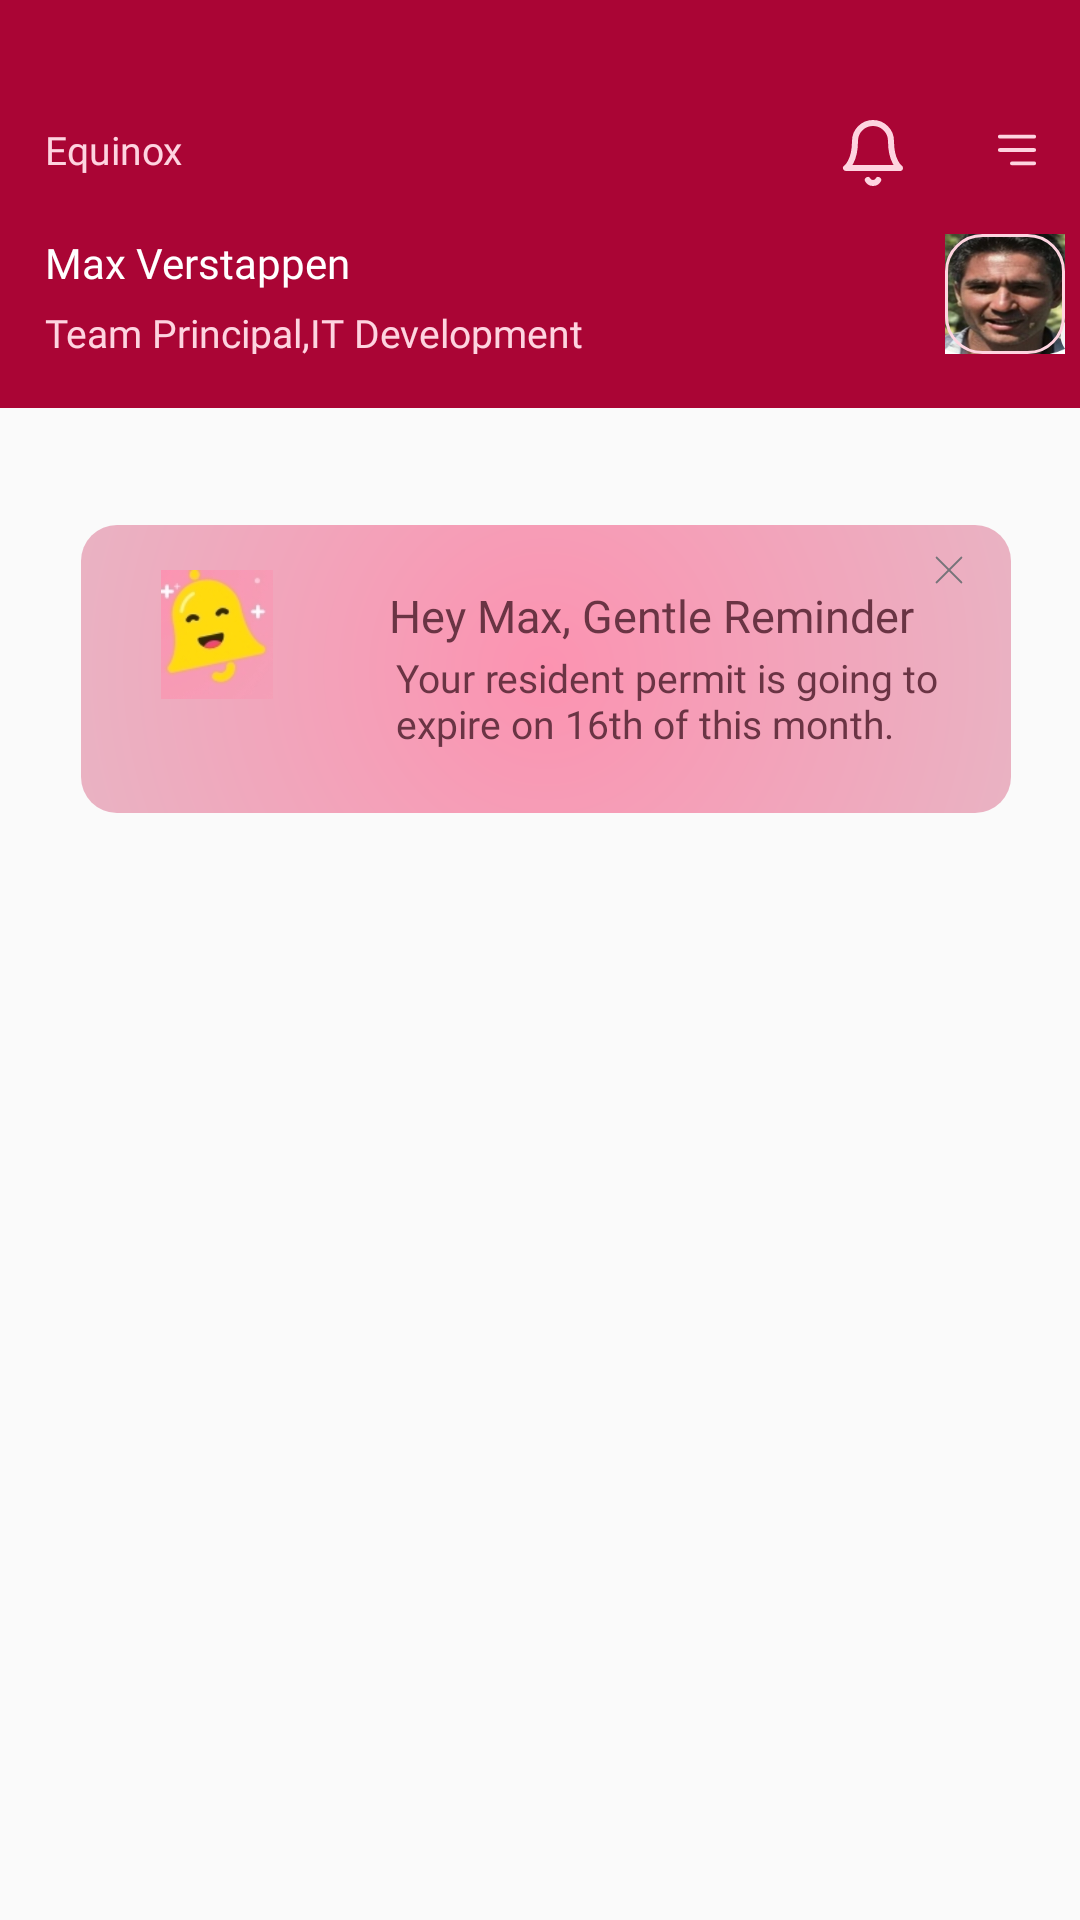

Locate icon controls on the screen. Image size 1080px×1920px, boxes as bbox=(x1, y1, x2, y2).
menu: bbox=(998, 134, 1036, 166)
notification: bbox=(843, 120, 903, 186)
